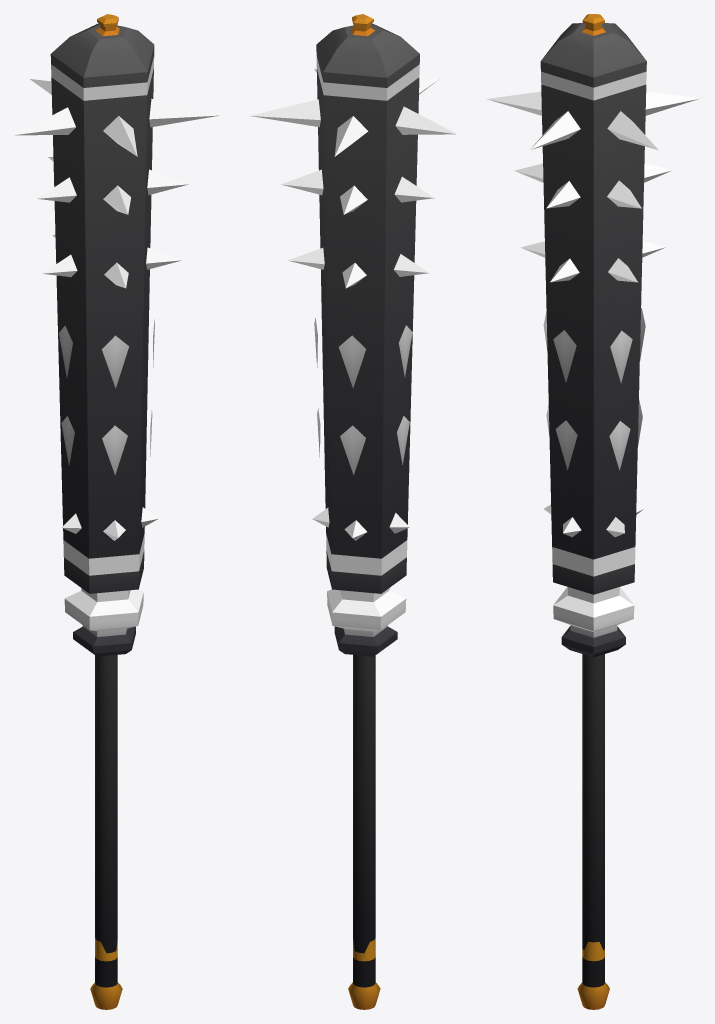
The model's file is Weapon_spiked_mace.fbx.
3 renders of one model, left to right at view 1: azimuth 30°, elevation 25°; view 2: azimuth 150°, elevation 25°; view 3: azimuth 270°, elevation 25°, orthographic.
Parts seen in each view (by area): view 1: W_MC_3; view 2: W_MC_3; view 3: W_MC_3.
Boxes of the visible parts, box(x1,y1,x2,y2) form: W_MC_3: box(14, 14, 219, 1009); W_MC_3: box(250, 14, 456, 1009); W_MC_3: box(486, 14, 700, 1009).
Bounding box in the file's own units: 20.58 × 111 × 21.8.
